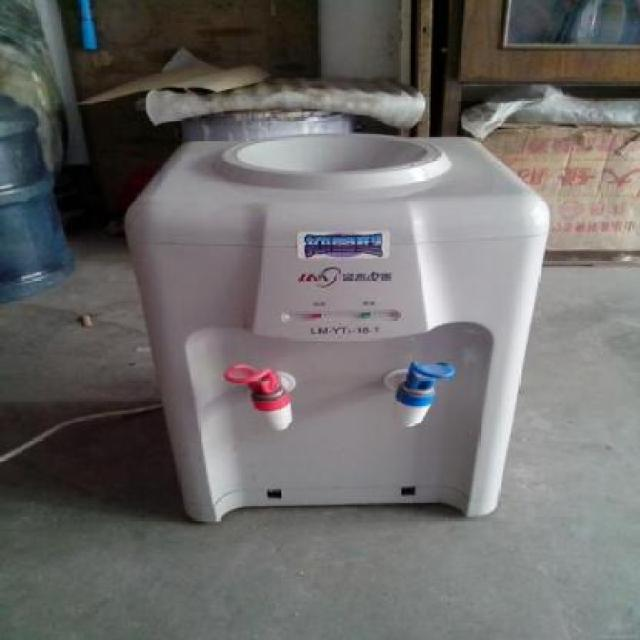cooler: (124, 127, 556, 528)
